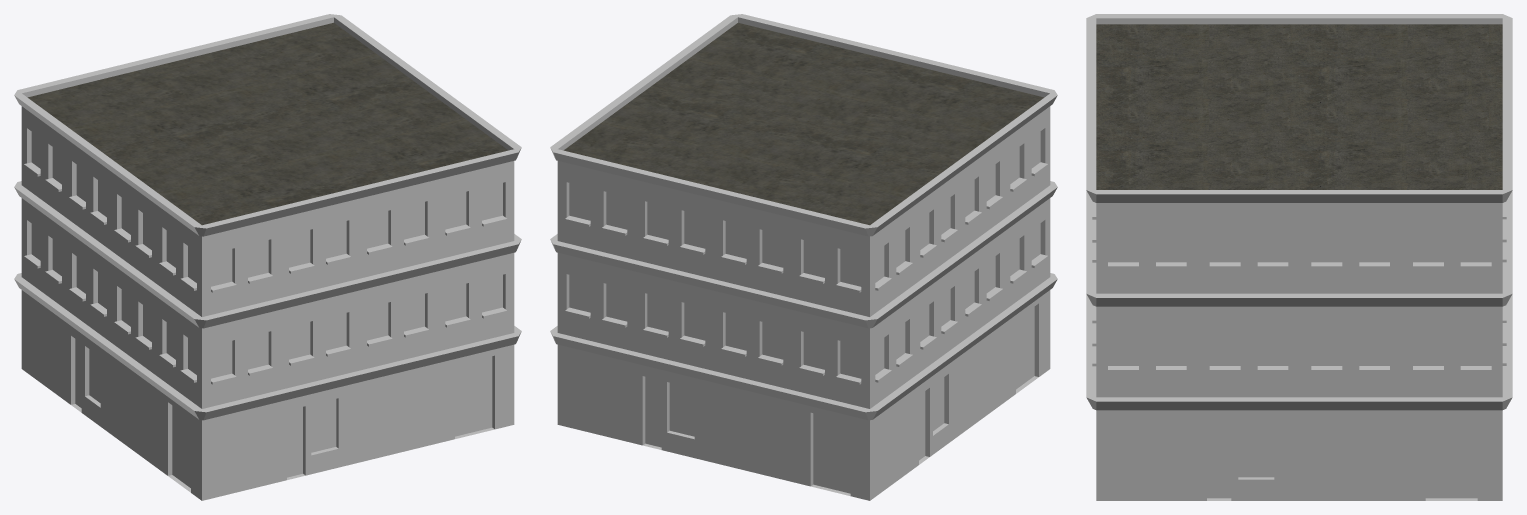
File: DT_Building_Type_08_08.fbx
The picture shows the model from 3 angles, left to right: view 1: azimuth 30°, elevation 25°; view 2: azimuth 150°, elevation 25°; view 3: azimuth 270°, elevation 25°; orthographic projection. The views are drawn at different scales.
Parts seen in each view (by area): view 1: DT_Building_Type_08_08; view 2: DT_Building_Type_08_08; view 3: DT_Building_Type_08_08.
Boxes of the visible parts, box(x1,y1,x2,y2) form: DT_Building_Type_08_08: box(14, 14, 521, 500); DT_Building_Type_08_08: box(550, 14, 1057, 500); DT_Building_Type_08_08: box(1086, 14, 1512, 500).
Bounding box in the file's own units: 1074 × 864 × 1074.
